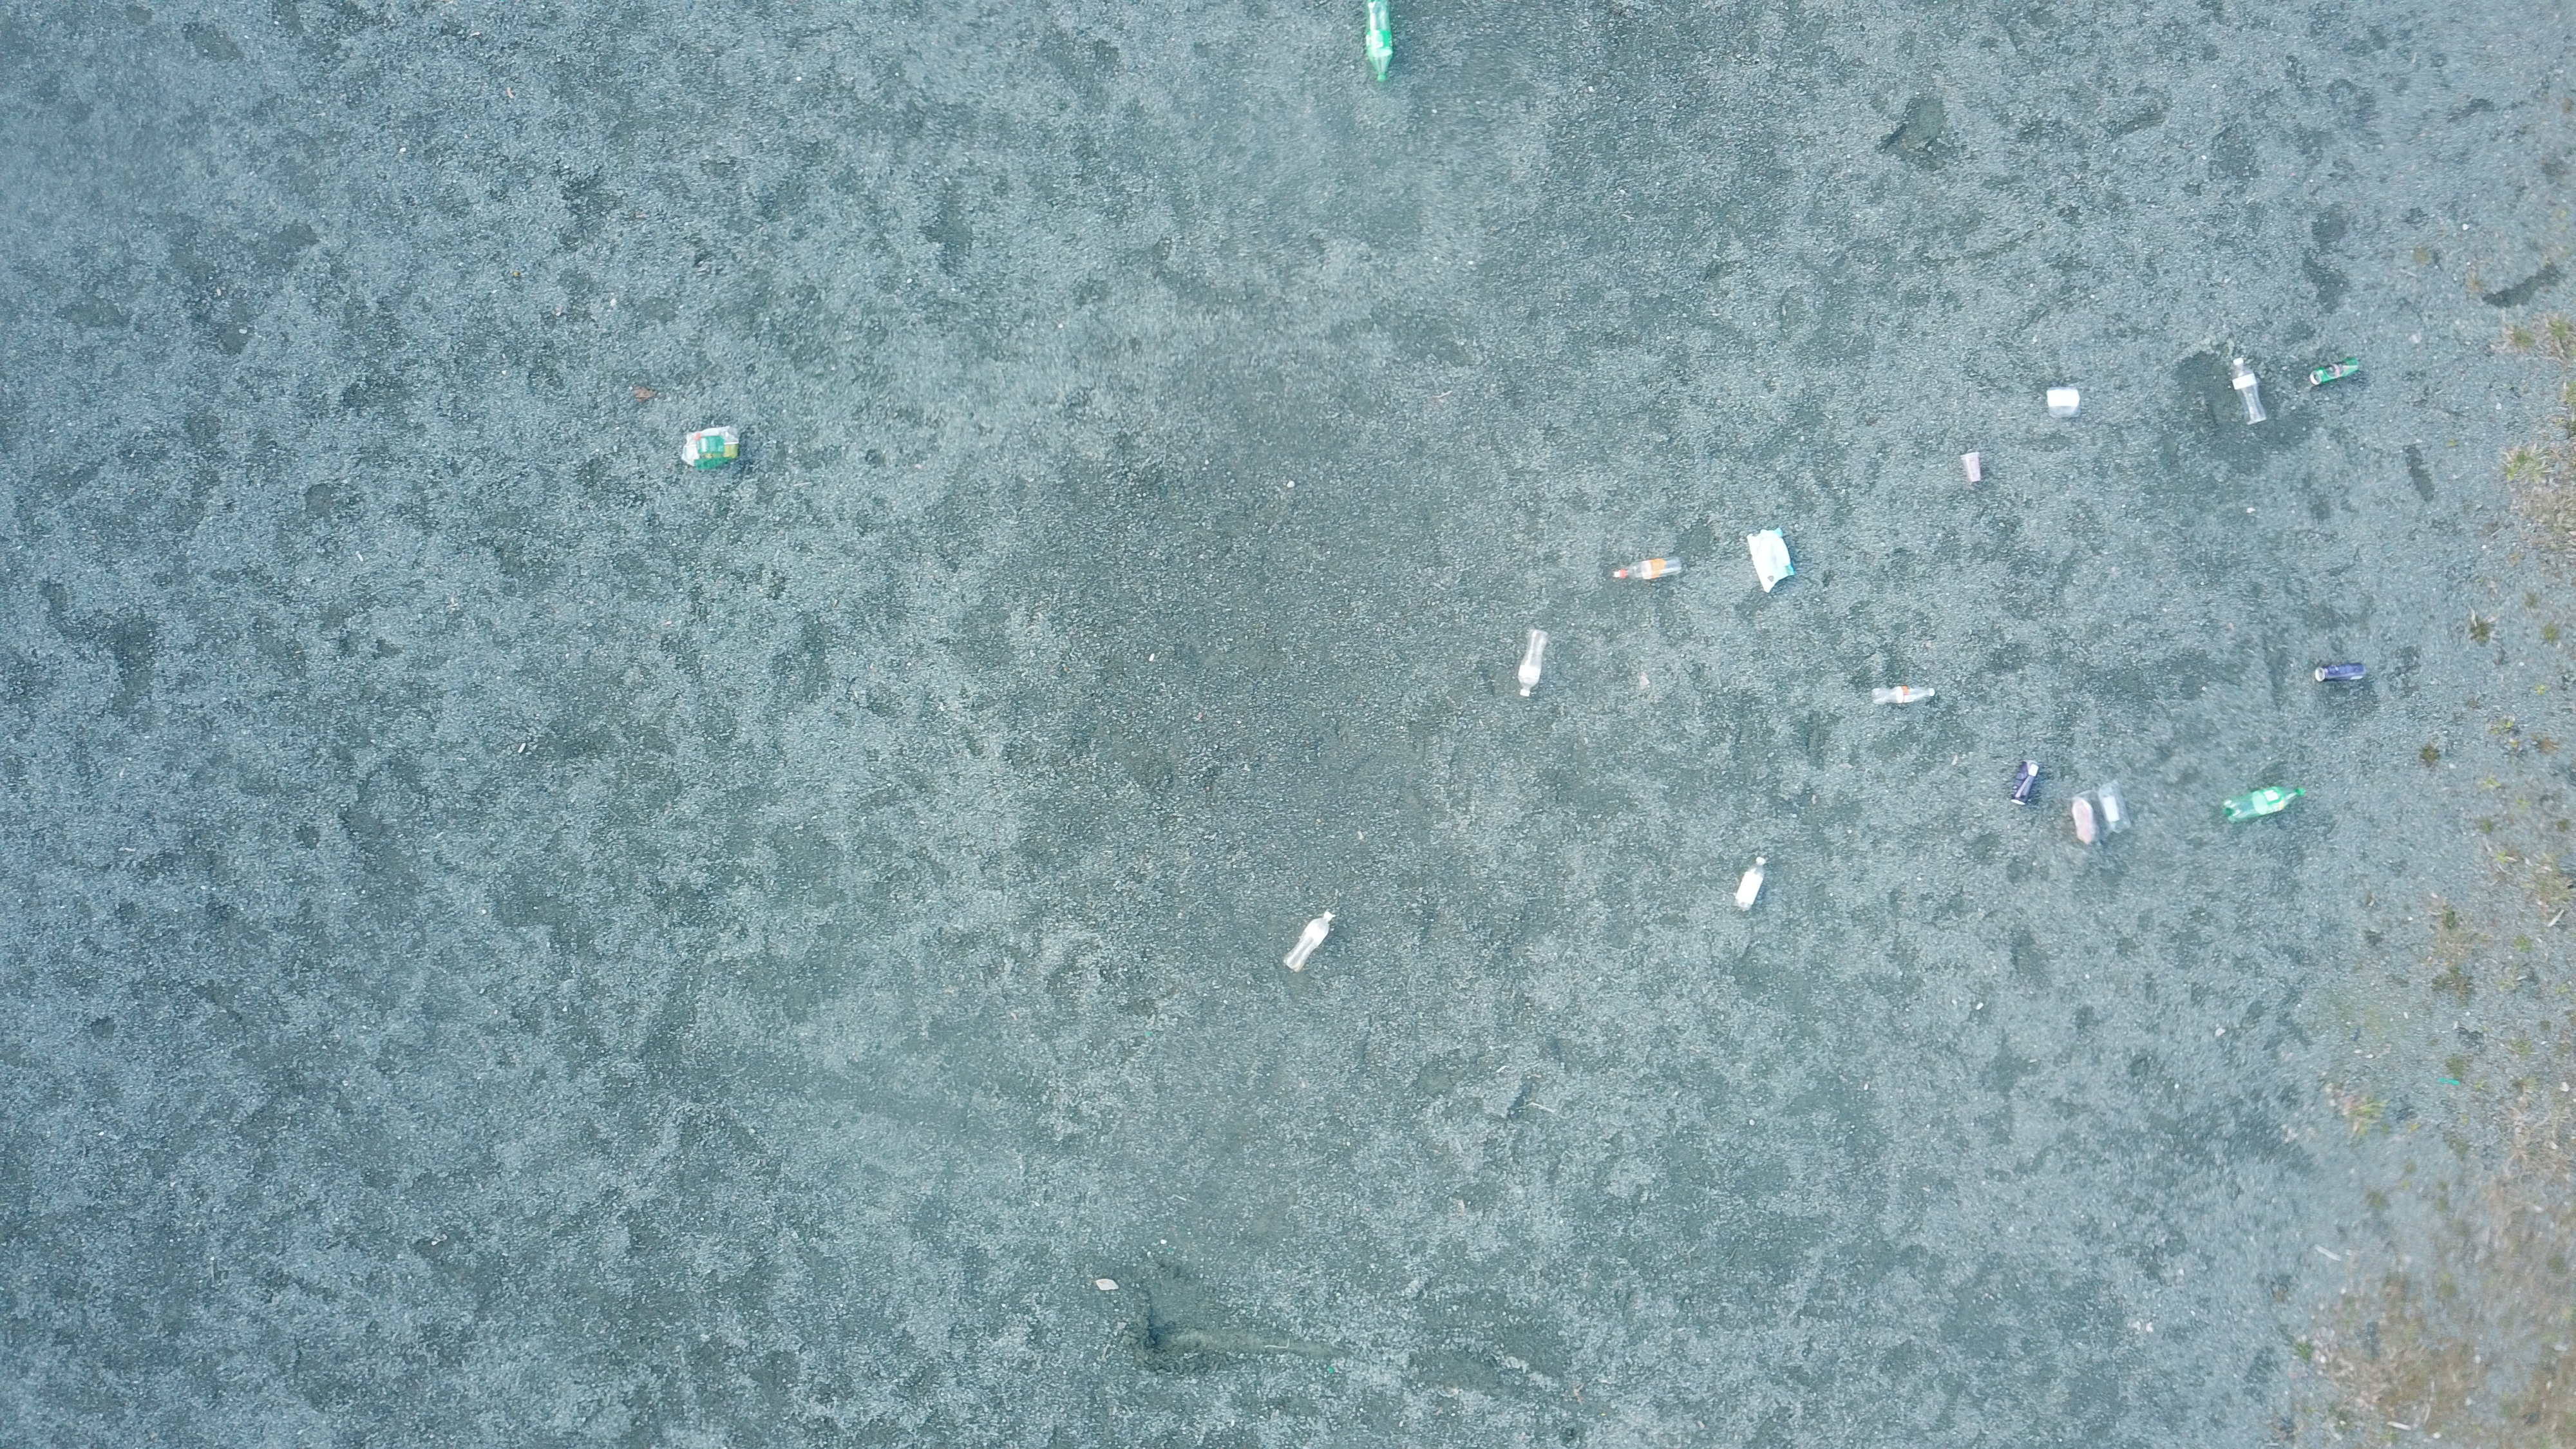Can: (2309, 356, 2360, 384), (2010, 761, 2042, 805), (2314, 663, 2367, 685)
Plastic: (2068, 778, 2130, 846), (1748, 527, 1796, 594), (681, 423, 741, 471), (2047, 387, 2082, 419), (1960, 453, 1982, 483)
PlasticBottle: (2220, 784, 2305, 824), (1284, 909, 1332, 971), (1364, 5, 1399, 88), (2233, 357, 2270, 428), (1516, 630, 1548, 699), (1614, 556, 1684, 584), (1734, 856, 1766, 911), (1874, 685, 1937, 708)
